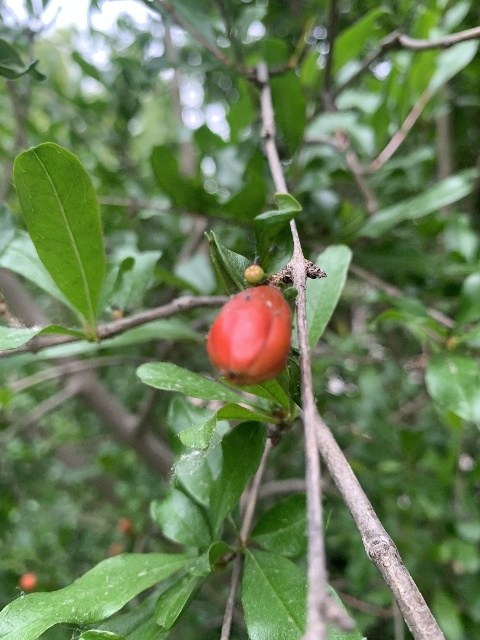bud: (206, 285, 291, 386)
